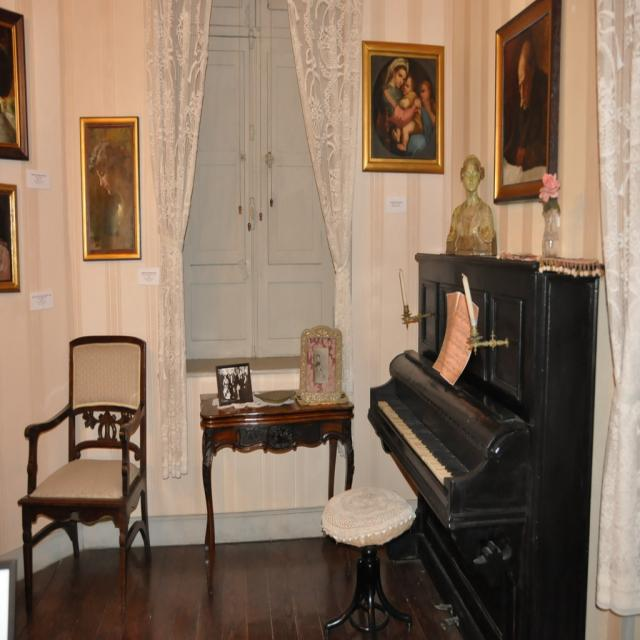chair: (20, 334, 150, 622), (321, 485, 416, 637)
desk: (193, 378, 363, 578)
